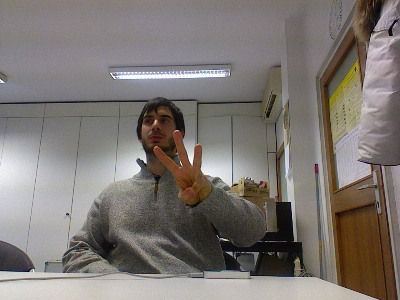三分: (152, 129, 212, 207)
